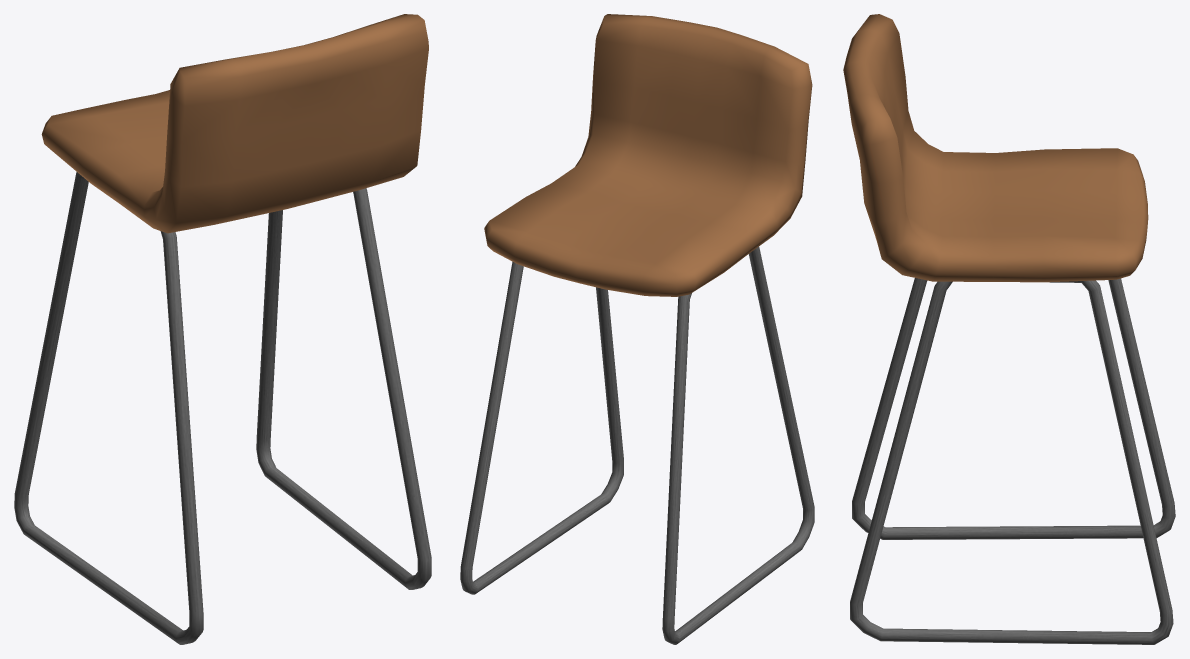
Rendered from frl_apartment_chair_05.obj.
3 views of the same model, side by side, from view 1: azimuth 30°, elevation 25°; view 2: azimuth 150°, elevation 25°; view 3: azimuth 270°, elevation 25° (orthographic). The views are drawn at different scales.
Bounding box in the file's own units: 0.4118 × 0.9005 × 0.5129.
Materials: 1 (1 with a texture image).
